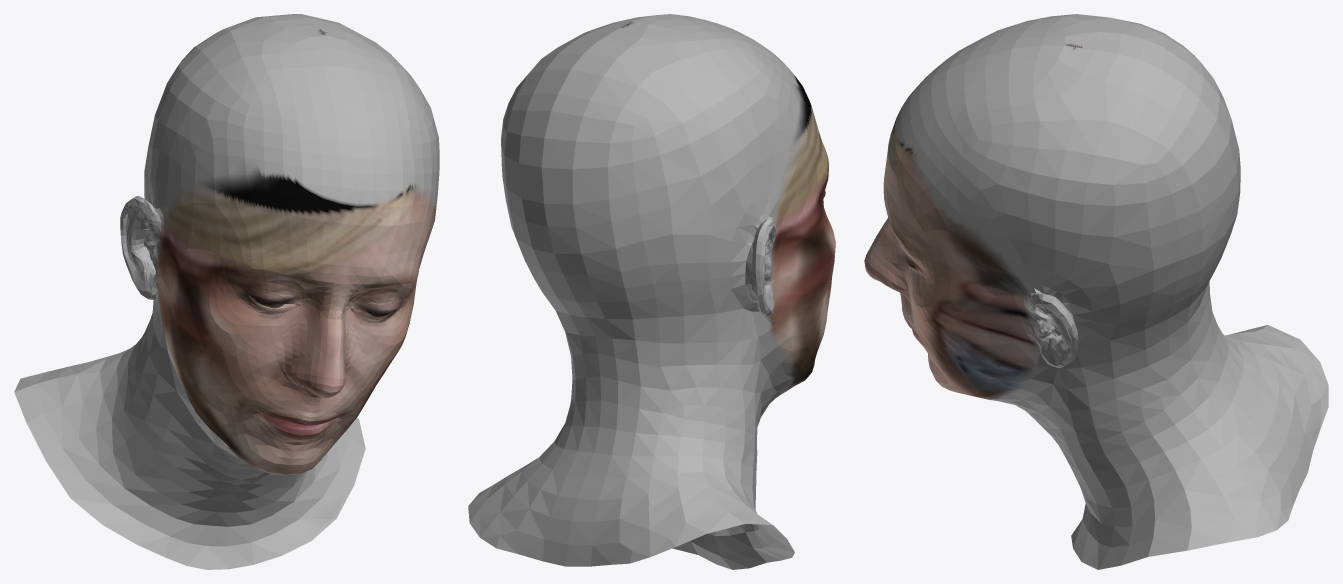
File: alfw1.obj
The picture shows the model from 3 angles, left to right: view 1: azimuth 30°, elevation 25°; view 2: azimuth 150°, elevation 25°; view 3: azimuth 270°, elevation 25°; orthographic projection.
Size of the model in its own units: 0.2081 by 0.3196 by 0.2548.
Materials: 1 (1 with a texture image).
